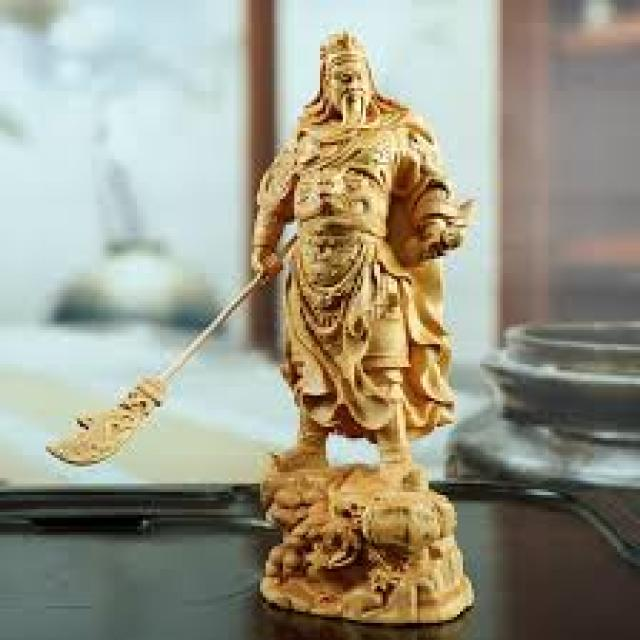Guan Yu: (254, 22, 464, 450)
